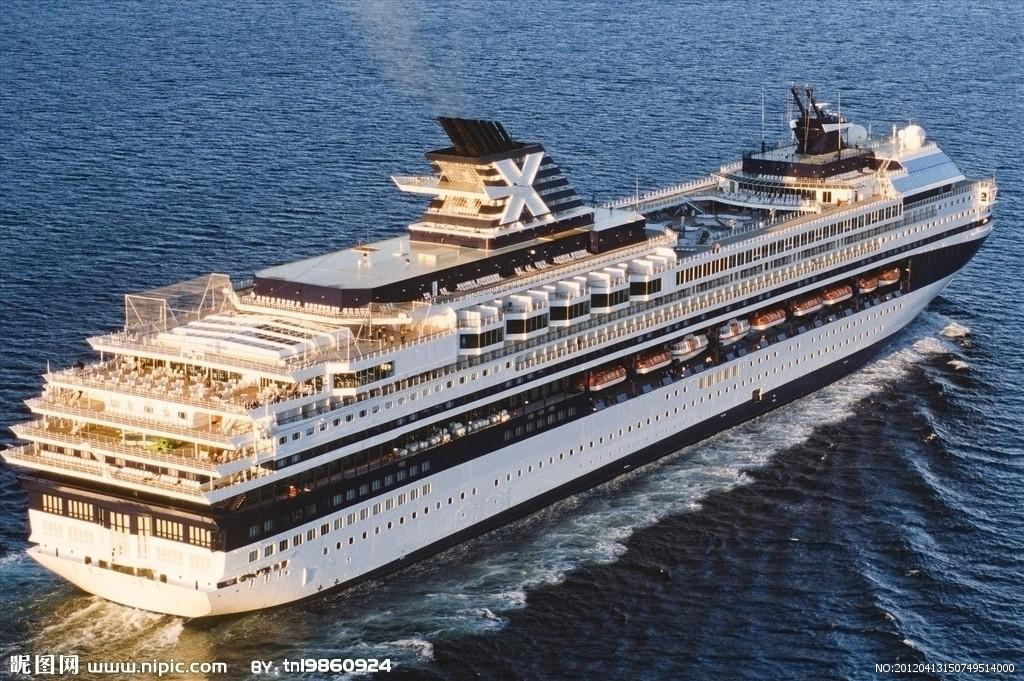youlun: (5, 94, 997, 621)
